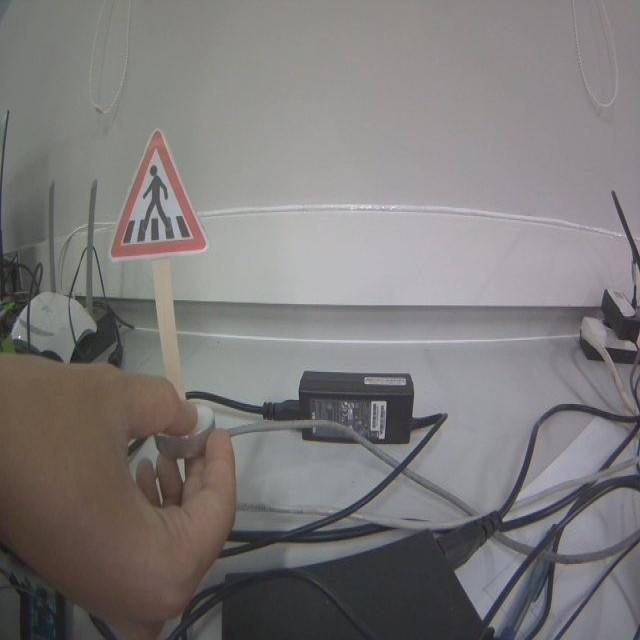Rambu Penyebrangan: (109, 131, 208, 260)
